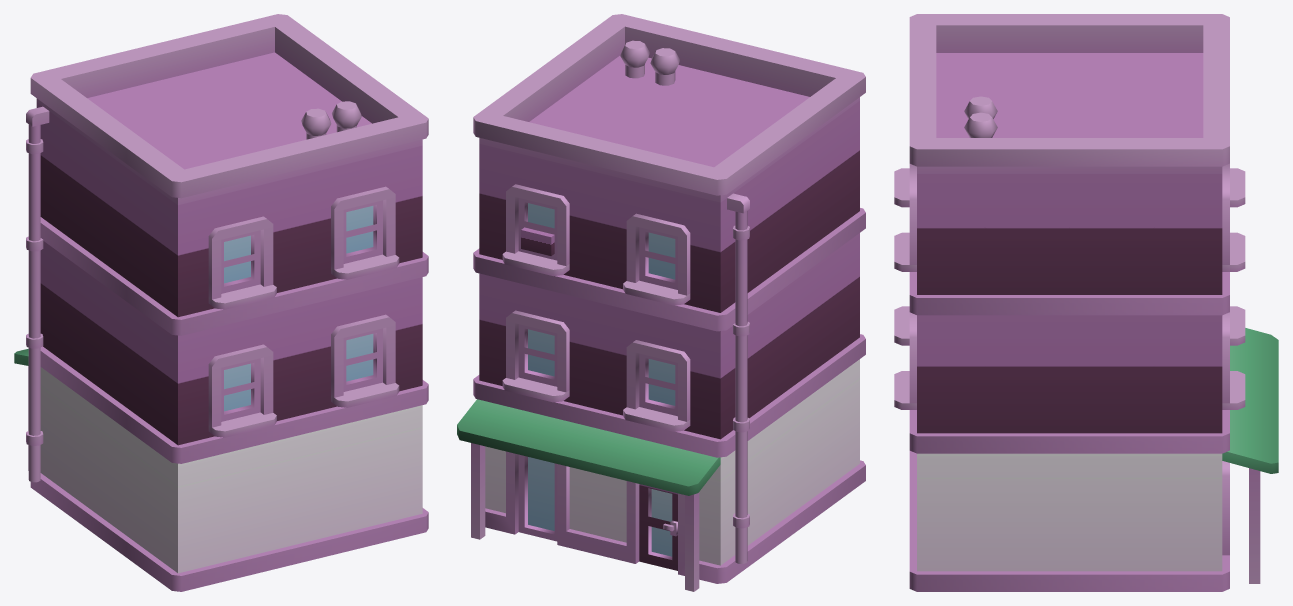
Rendered from townhouse_3story.obj.
3 renders of one model, left to right at view 1: azimuth 30°, elevation 25°; view 2: azimuth 150°, elevation 25°; view 3: azimuth 270°, elevation 25°, orthographic. The views are drawn at different scales.
Parts seen in each view (by area): view 1: building-h; view 2: building-h; view 3: building-h.
Boxes of the visible parts, x1=… form: building-h: x1=14, y1=14, x2=428, y2=591; building-h: x1=457, y1=14, x2=865, y2=591; building-h: x1=894, y1=14, x2=1278, y2=591.
Bounding box in the file's own units: 17.67 × 25.86 × 20.16.
Materials: 1 (1 with a texture image).
